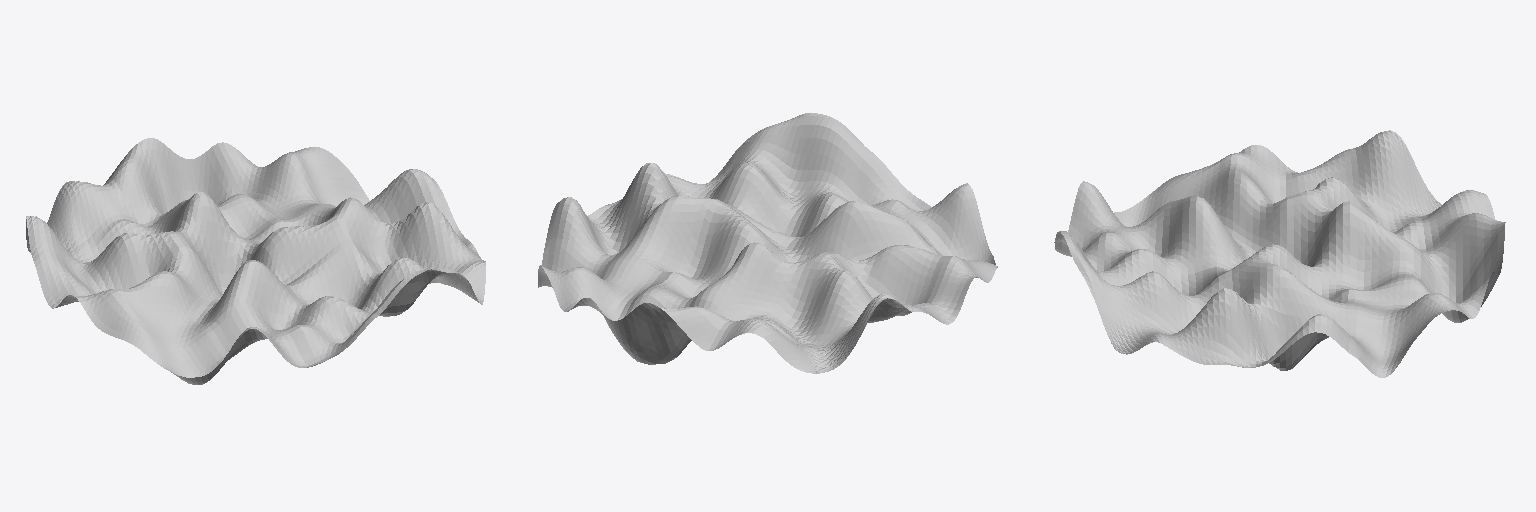
3 views of the same model, side by side, from view 1: azimuth 30°, elevation 25°; view 2: azimuth 150°, elevation 25°; view 3: azimuth 270°, elevation 25° (orthographic).
Visible parts, largest first — view 1: 平面; view 2: 平面; view 3: 平面.
Part boxes in pixels (x1,y1,x2,y2): 平面: (26, 138, 485, 384); 平面: (538, 113, 997, 373); 平面: (1054, 130, 1505, 377).
Bounding box in the file's own units: 9.02 × 2.17 × 9.02.